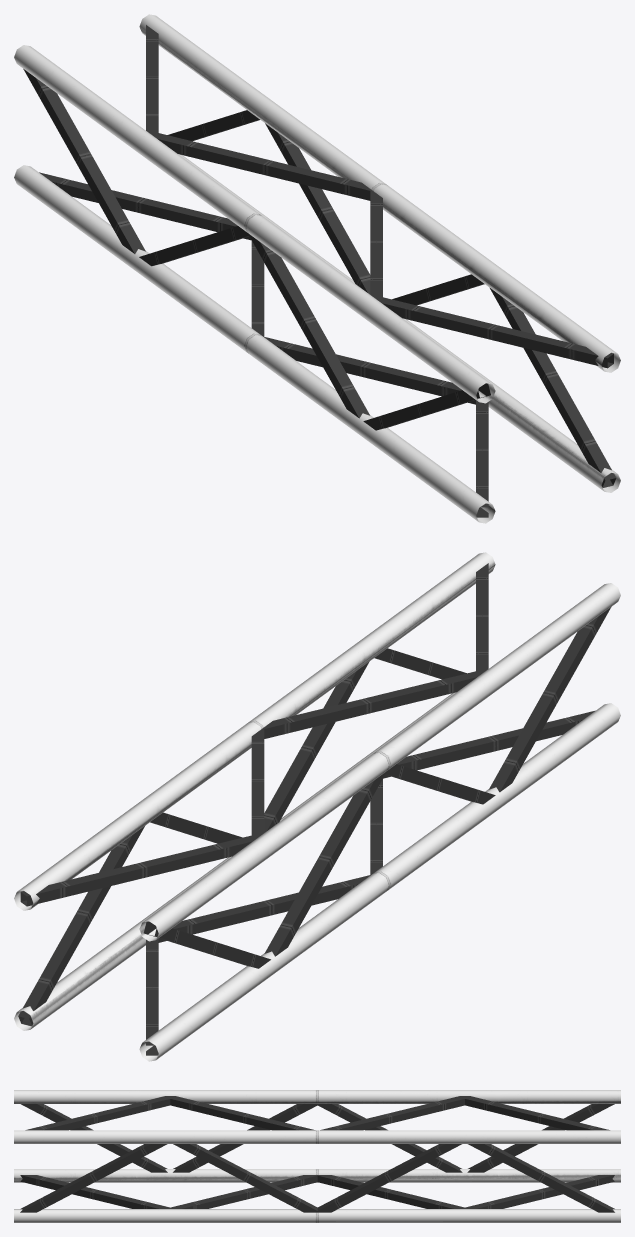
Rendered from spaceScaffolding.fbx.
The picture shows the model from 3 angles, top to bottom: view 1: azimuth 30°, elevation 25°; view 2: azimuth 150°, elevation 25°; view 3: azimuth 270°, elevation 25°; orthographic projection. The views are drawn at different scales.
Parts seen in each view (by area): view 1: spaceScaffolding; view 2: spaceScaffolding; view 3: spaceScaffolding.
Boxes of the visible parts, x1=… form: spaceScaffolding: x1=14, y1=14, x2=620, y2=523; spaceScaffolding: x1=14, y1=552, x2=620, y2=1061; spaceScaffolding: x1=14, y1=1090, x2=620, y2=1222.
Size of the model in its own units: 126 by 117 by 697.
